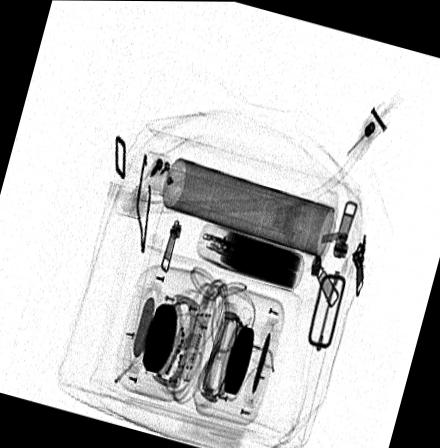Powerbank: (194, 221, 306, 293)
